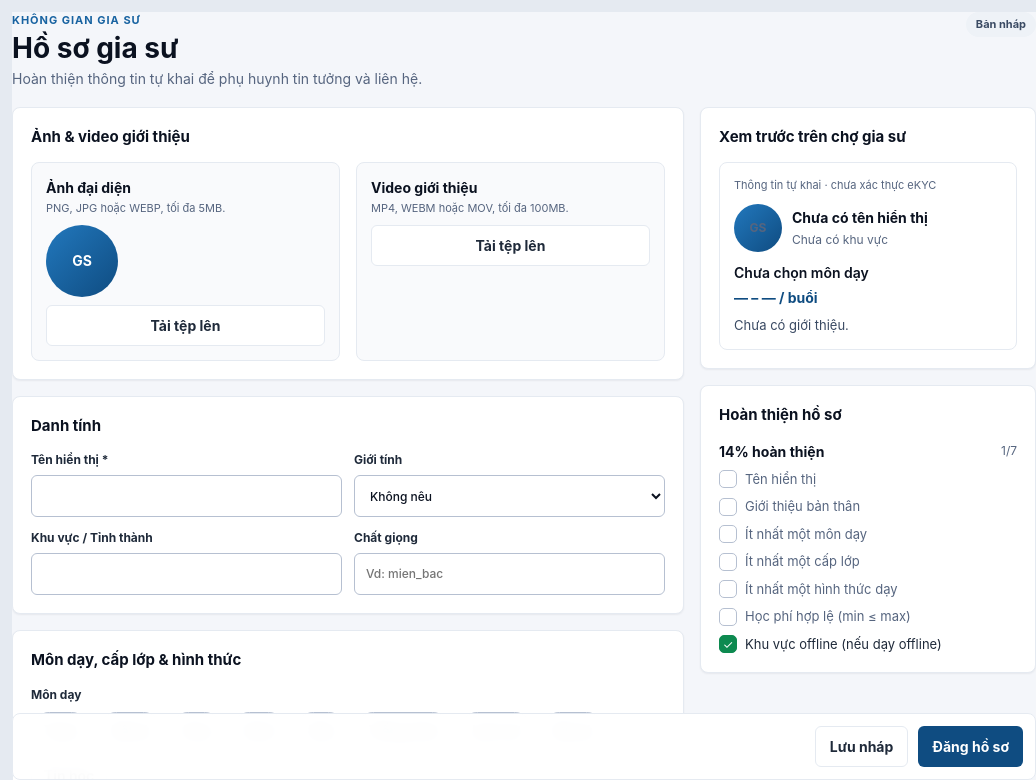
it: ProfilePage › blocks save and shows field errors when the display name is empty
This screenshot has width=1036, height=780.
What coordinates should you click on to do the following:
click the button "Lưu nháp"
I would click on:
 (862, 746)
Its box is [815, 726, 908, 767].
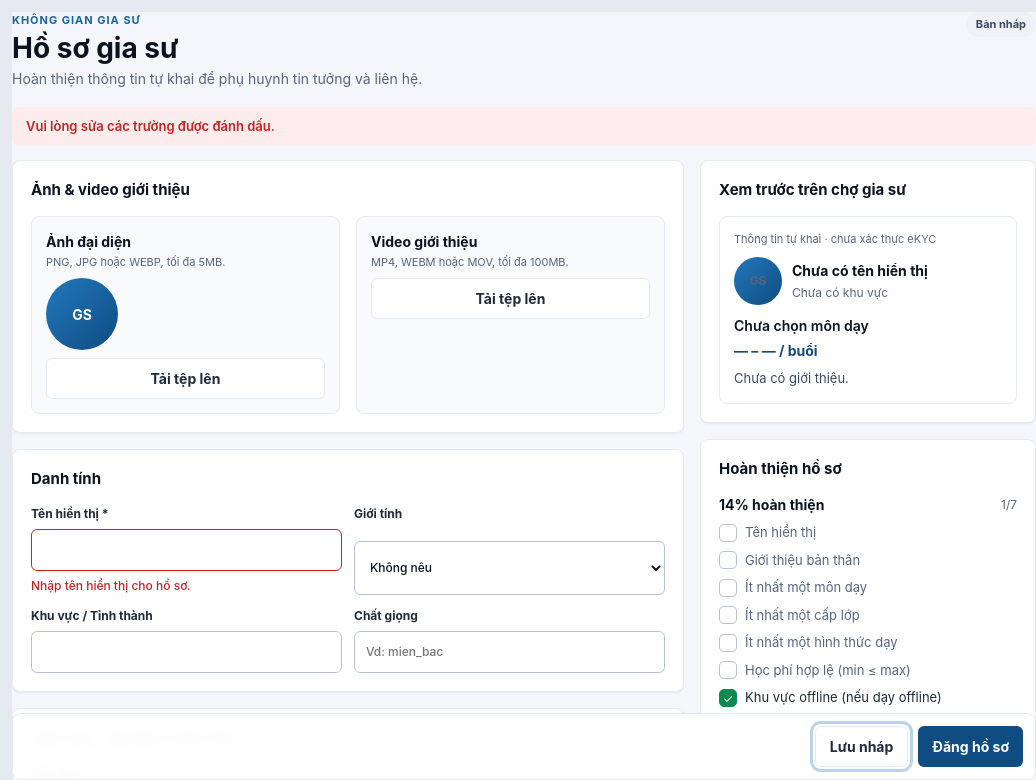
Expected: the text "Nhập tên hiển thị cho hồ sơ." is shown, [31, 578, 190, 592]
